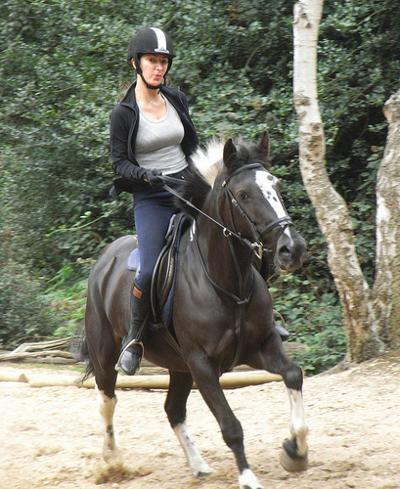person: (111, 24, 214, 376)
